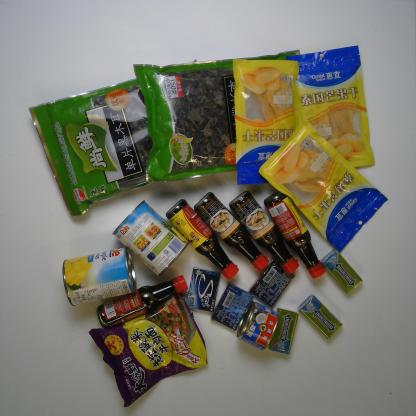Canned Food: (110, 198, 191, 277), (61, 246, 137, 307), (236, 300, 280, 352)
Dried Food: (25, 76, 222, 220), (130, 46, 304, 185)
Dried Fruit: (258, 115, 389, 257), (286, 43, 376, 168), (230, 55, 306, 189)
Gum: (246, 258, 296, 308), (210, 281, 255, 331), (297, 293, 343, 339), (319, 248, 364, 294), (186, 266, 221, 314), (268, 308, 300, 356)
Instant Noodles: (81, 291, 218, 412)
Seasoner: (227, 188, 300, 275), (194, 189, 268, 273), (165, 198, 240, 280), (95, 272, 189, 333), (263, 191, 326, 279)
